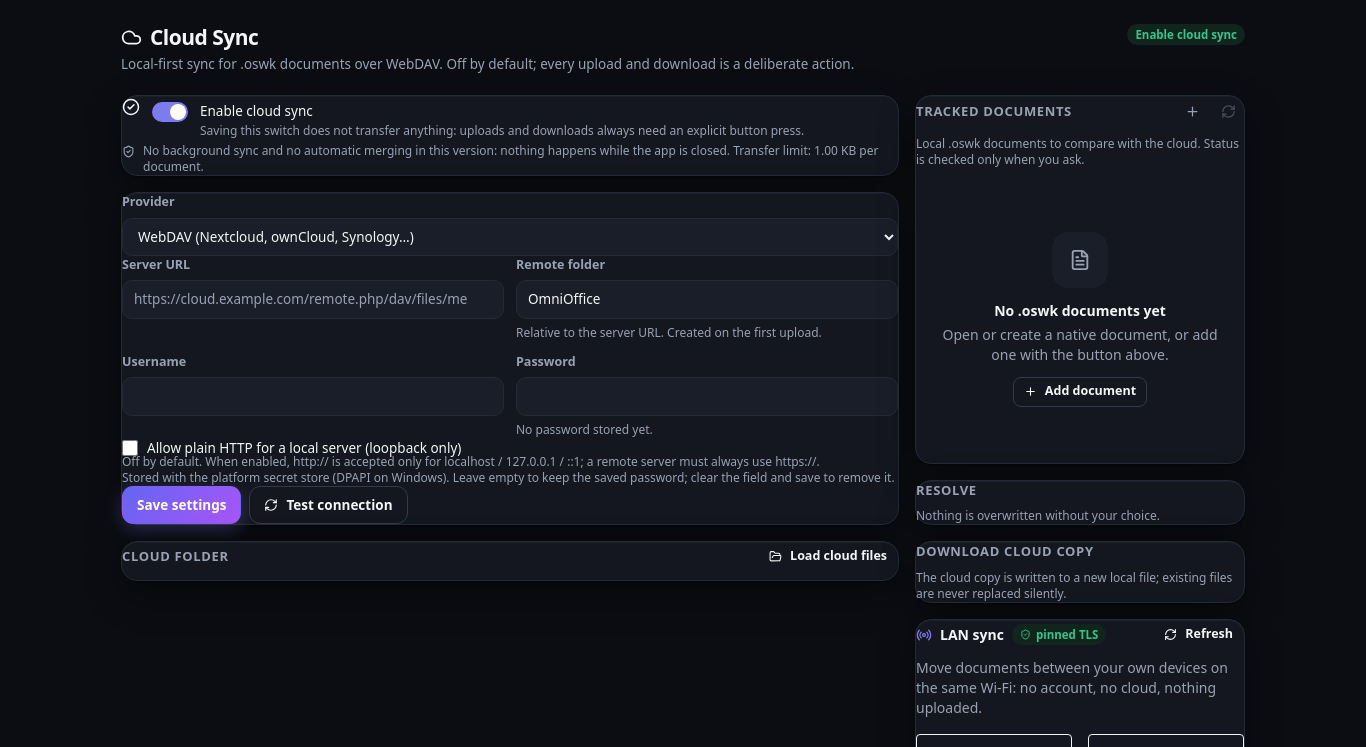
Test: cloud sync OAuth providers › enables the OAuth option, saves a client and connects
Step 1. Select "OneDrive (OAuth required)" in the dropdown → (510, 236), box [122, 218, 898, 256]
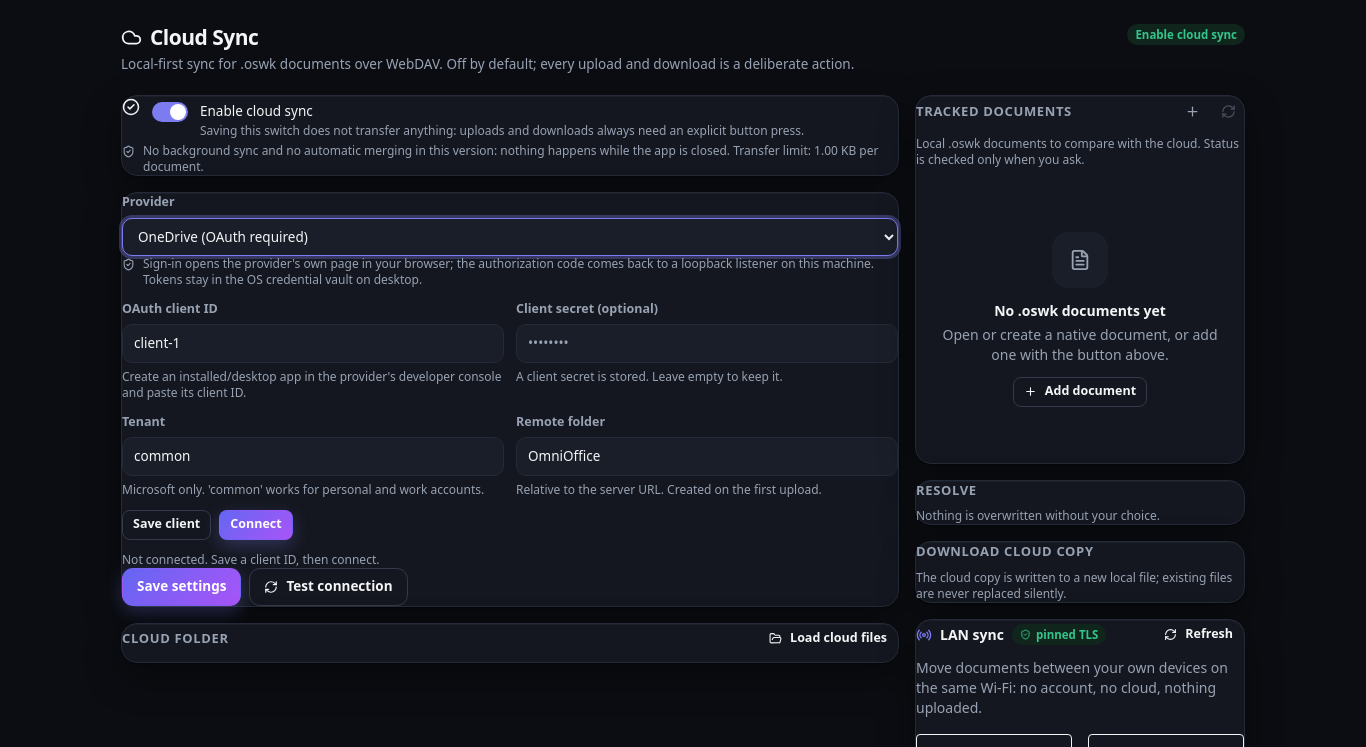
Expected: the field showing "client-1" below "OAuth client ID" is shown, [122, 324, 504, 363]
Expected: the text "Not connected. Save a client ID, then connect." is shown, [122, 550, 380, 568]
Step 2. Click the button "Connect" → (256, 524), box [219, 510, 293, 540]
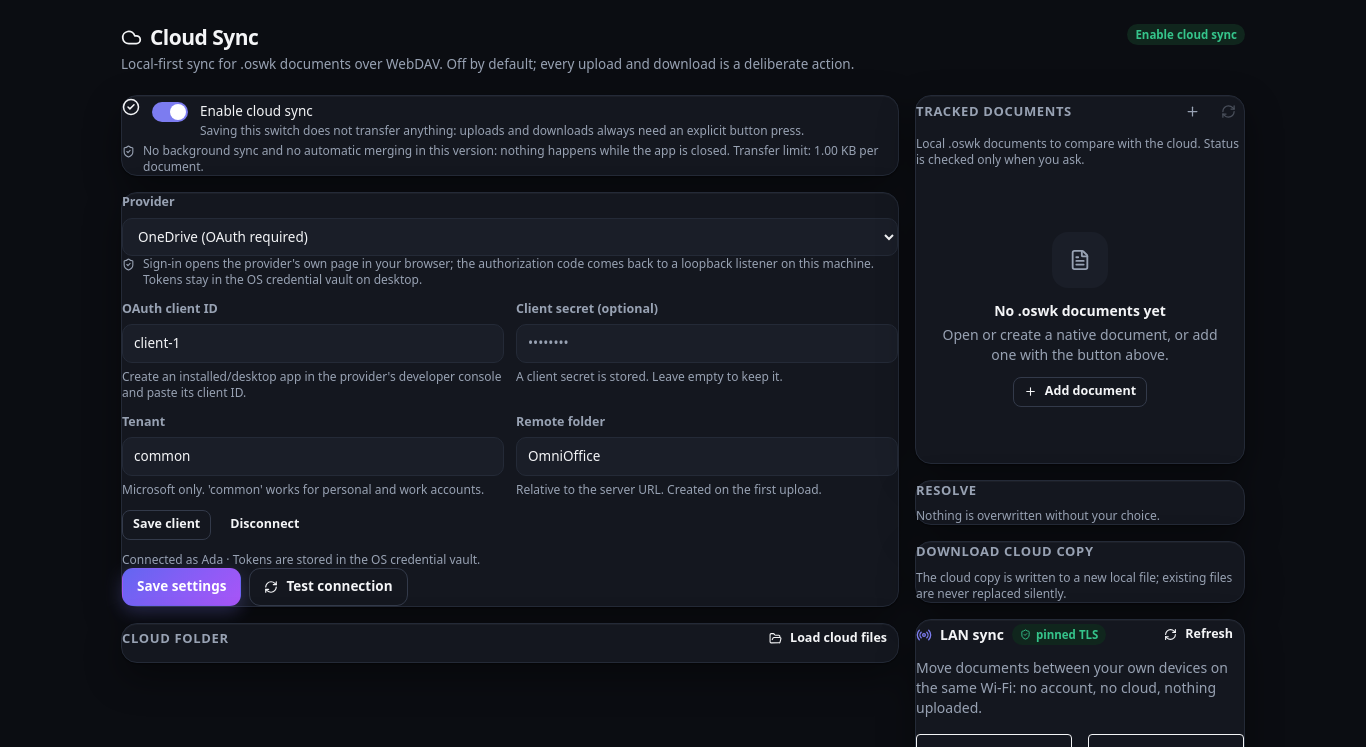
Expected: the text "OS credential vault" is shown, [143, 254, 874, 288]
Expected: the text "Connected as Ada" is shown, [122, 550, 480, 568]
